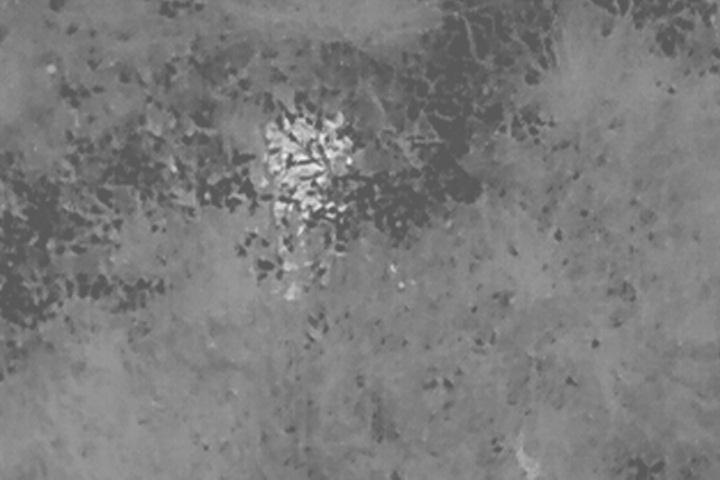landmine: (260, 108, 369, 245)
